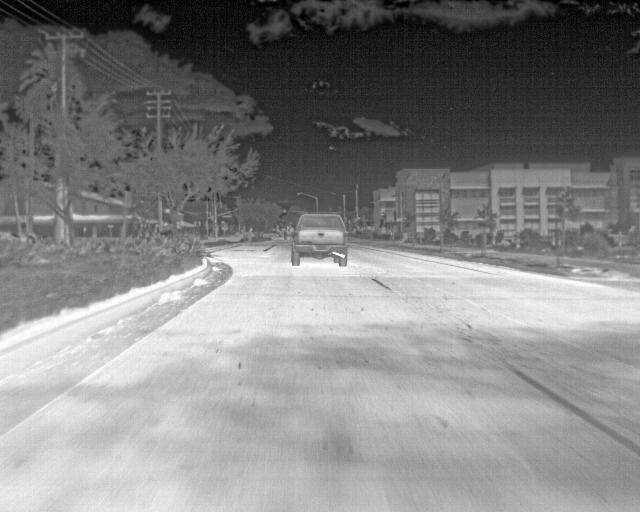car: (291, 212, 348, 268)
